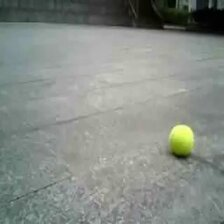tennis: (169, 125, 193, 153)
